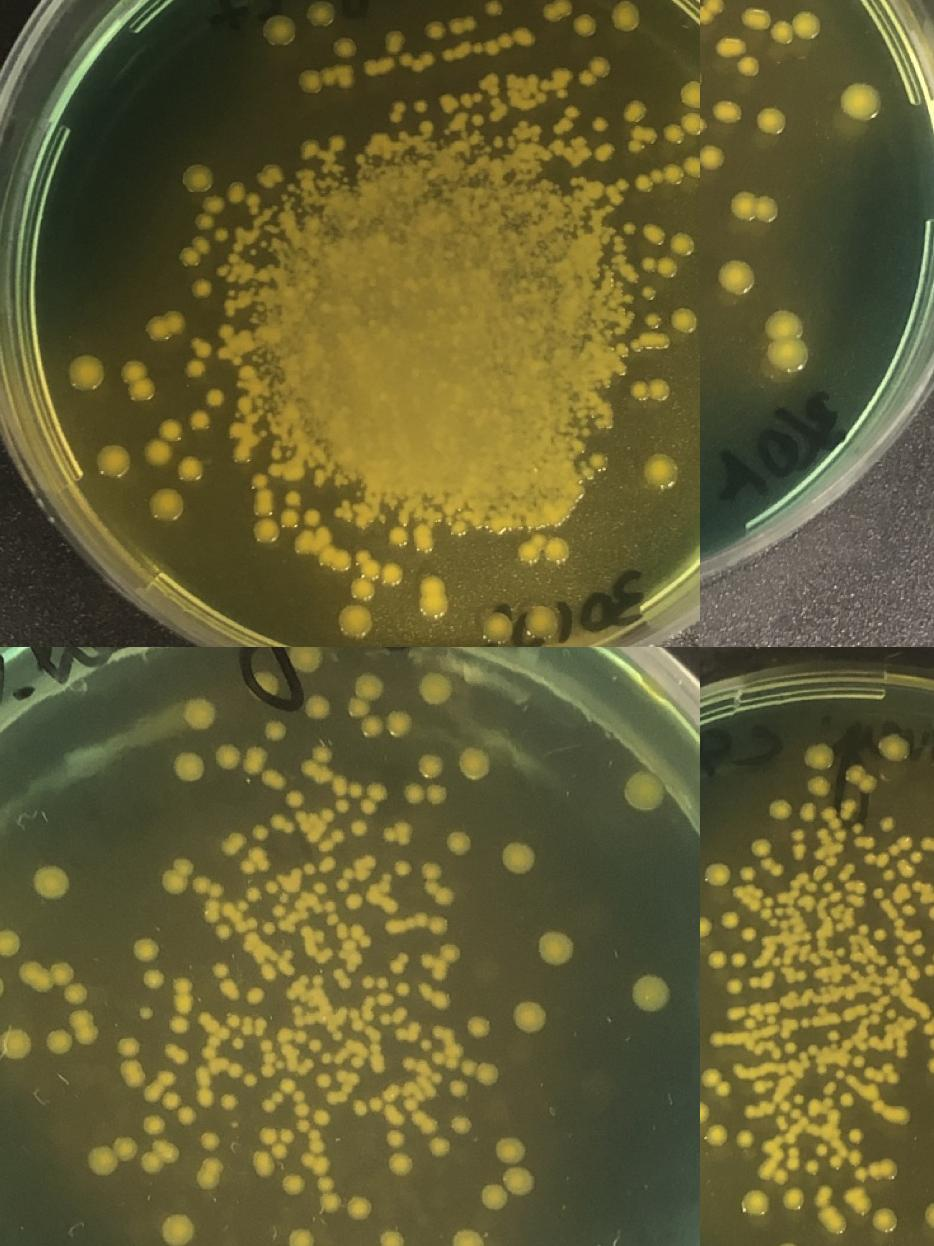vharveyi: (294, 527, 404, 603), (272, 880, 339, 932), (739, 7, 823, 44), (761, 310, 809, 373), (260, 1031, 315, 1078), (261, 1079, 310, 1131), (848, 1192, 901, 1236), (738, 837, 786, 883), (482, 1166, 533, 1208), (714, 36, 762, 80), (838, 82, 884, 124), (251, 474, 278, 542), (345, 671, 384, 718), (88, 1138, 133, 1178), (652, 148, 700, 183), (715, 257, 757, 297), (729, 190, 781, 222), (196, 1057, 243, 1089), (198, 1013, 230, 1060), (478, 73, 508, 123), (430, 1025, 463, 1070), (417, 574, 449, 620), (21, 962, 72, 990), (615, 332, 669, 358), (368, 1084, 402, 1125), (362, 710, 410, 739), (518, 535, 566, 563), (231, 429, 269, 464), (124, 360, 154, 404), (195, 876, 223, 923), (663, 110, 700, 145), (300, 1128, 328, 1172), (752, 105, 790, 137), (366, 872, 396, 912), (144, 311, 183, 340), (325, 1070, 358, 1104), (800, 741, 838, 770), (480, 613, 514, 645), (96, 444, 130, 476), (844, 765, 880, 795), (644, 455, 676, 488), (68, 356, 101, 388), (141, 1143, 177, 1172), (176, 453, 208, 485), (179, 236, 211, 268), (526, 606, 559, 637), (226, 182, 259, 213), (294, 810, 324, 844), (514, 1001, 546, 1032), (198, 193, 226, 228), (69, 1008, 96, 1044), (183, 698, 214, 729), (150, 488, 182, 518), (162, 1214, 192, 1246), (227, 1014, 267, 1038), (34, 868, 66, 898), (248, 670, 278, 702), (740, 1188, 772, 1218), (708, 946, 748, 970), (196, 1156, 222, 1192), (463, 1060, 499, 1086), (143, 1071, 173, 1102), (420, 672, 451, 702), (701, 860, 733, 889), (878, 733, 910, 762), (630, 378, 670, 401), (711, 100, 745, 127), (634, 978, 664, 1008), (628, 776, 658, 806), (458, 747, 488, 777), (342, 606, 370, 638), (162, 860, 190, 892), (360, 781, 387, 814), (440, 92, 484, 112), (540, 933, 570, 962), (502, 843, 532, 872), (173, 751, 203, 780), (0, 1026, 28, 1057), (581, 56, 611, 84), (499, 24, 534, 48), (494, 1136, 524, 1164), (385, 912, 427, 932), (805, 1143, 830, 1176), (506, 74, 540, 98), (700, 143, 728, 172), (184, 164, 212, 192), (266, 18, 294, 46), (444, 43, 484, 62), (319, 1178, 340, 1214), (779, 1093, 806, 1120), (243, 745, 268, 774), (700, 0, 725, 28), (412, 524, 435, 554), (290, 647, 320, 670), (552, 66, 572, 100), (630, 126, 656, 152), (582, 454, 606, 482), (848, 1150, 869, 1182), (766, 798, 794, 822), (759, 896, 784, 922), (369, 1030, 384, 1072), (146, 440, 170, 466), (670, 307, 694, 333), (670, 232, 694, 258), (606, 179, 630, 205), (572, 12, 596, 38), (614, 3, 638, 29), (426, 880, 452, 904), (704, 1124, 730, 1148), (346, 1196, 370, 1220), (46, 1029, 70, 1053), (468, 1015, 492, 1039), (134, 937, 158, 961), (448, 831, 472, 855), (320, 828, 344, 852), (215, 745, 239, 769), (807, 774, 831, 798), (257, 165, 282, 188), (308, 696, 331, 721), (780, 1188, 806, 1210), (397, 1020, 420, 1044), (418, 754, 441, 778), (381, 1004, 406, 1026), (364, 58, 394, 76), (452, 1228, 482, 1246), (250, 846, 270, 873), (204, 386, 226, 410), (192, 276, 214, 300), (354, 856, 376, 880), (383, 822, 409, 842), (298, 71, 320, 94), (448, 16, 476, 34), (300, 926, 325, 946), (189, 410, 211, 432), (184, 358, 206, 380), (624, 100, 646, 122), (333, 37, 355, 59), (384, 28, 406, 50), (424, 20, 446, 42), (923, 1200, 934, 1244), (878, 1158, 900, 1180), (718, 908, 740, 930), (164, 1044, 188, 1064), (350, 924, 370, 948), (159, 419, 181, 440), (310, 2, 331, 24), (413, 1112, 436, 1132), (683, 80, 700, 107), (700, 1100, 711, 1141), (785, 1146, 801, 1174), (337, 866, 354, 892), (388, 524, 408, 546), (644, 222, 664, 244), (700, 1066, 720, 1088), (320, 1050, 344, 1068), (0, 930, 18, 954), (404, 1092, 425, 1112), (404, 784, 425, 804), (412, 53, 434, 72), (289, 1229, 313, 1246), (700, 912, 715, 939), (449, 518, 469, 538), (333, 500, 353, 520), (541, 6, 561, 26), (390, 1154, 410, 1174), (430, 1137, 450, 1157), (385, 1128, 405, 1148), (143, 1116, 163, 1136), (452, 1115, 472, 1135), (448, 1078, 468, 1098), (121, 1058, 141, 1078), (118, 1037, 138, 1057), (348, 1007, 364, 1032), (143, 968, 163, 988), (426, 784, 446, 804), (313, 744, 333, 764), (266, 722, 286, 742), (735, 1129, 755, 1149), (878, 814, 898, 834), (482, 0, 503, 19), (381, 1230, 405, 1246), (242, 930, 258, 954), (922, 949, 934, 981), (282, 1175, 301, 1195), (252, 1154, 273, 1172), (391, 952, 409, 973), (272, 816, 293, 834), (362, 994, 375, 1022), (303, 510, 323, 528), (280, 510, 300, 528), (66, 984, 84, 1004), (263, 770, 283, 788), (838, 1090, 856, 1110), (738, 924, 758, 942), (237, 916, 258, 933), (390, 101, 406, 123), (406, 1076, 428, 1092), (334, 968, 350, 990), (658, 258, 677, 276), (596, 144, 615, 162), (228, 242, 245, 262), (404, 1058, 428, 1072), (288, 980, 304, 1001), (254, 389, 272, 407), (279, 183, 296, 202), (726, 976, 742, 996), (339, 64, 351, 90), (286, 465, 304, 482), (613, 234, 628, 253), (636, 174, 651, 192), (554, 119, 572, 134), (919, 835, 934, 853), (284, 492, 302, 506), (442, 122, 460, 136), (290, 866, 302, 887), (270, 439, 282, 459), (849, 1128, 864, 1144), (874, 927, 888, 944), (700, 107, 709, 133), (604, 326, 623, 338), (641, 284, 655, 300), (783, 1040, 799, 1054), (910, 943, 926, 957), (883, 868, 897, 884), (318, 150, 336, 162), (229, 422, 243, 437), (247, 989, 261, 1004), (902, 903, 916, 918), (754, 1080, 767, 1096), (238, 396, 252, 410), (241, 366, 255, 380), (196, 340, 210, 354), (645, 314, 659, 328), (214, 228, 228, 242), (303, 141, 317, 155), (272, 1144, 286, 1158), (202, 1134, 216, 1148), (280, 1128, 294, 1142), (315, 1112, 329, 1126), (179, 1108, 193, 1122), (164, 1094, 178, 1108), (198, 1093, 212, 1107), (316, 1074, 330, 1088), (244, 1072, 258, 1086), (420, 1038, 434, 1052), (230, 1036, 244, 1050), (173, 1018, 187, 1032), (177, 996, 191, 1010), (434, 994, 448, 1008), (220, 980, 234, 994), (176, 979, 190, 993), (212, 962, 226, 976), (443, 946, 457, 960), (430, 919, 444, 933), (346, 894, 360, 908), (240, 860, 254, 874), (320, 858, 334, 872), (229, 833, 243, 847), (288, 794, 302, 808), (349, 784, 363, 798), (826, 1028, 840, 1042), (884, 1008, 898, 1022), (863, 852, 877, 866), (909, 850, 923, 864), (888, 844, 902, 858), (833, 828, 847, 842), (871, 886, 884, 901), (852, 821, 865, 836), (216, 927, 230, 940), (220, 345, 232, 360), (140, 1007, 152, 1022), (281, 948, 293, 963), (334, 780, 346, 795), (268, 464, 282, 476), (220, 326, 232, 340), (420, 122, 434, 134), (323, 70, 335, 84), (262, 1129, 274, 1143), (354, 1100, 366, 1114), (221, 1096, 235, 1108), (432, 1051, 444, 1065), (310, 1040, 322, 1054), (330, 1028, 342, 1042), (294, 1015, 306, 1029), (379, 992, 391, 1006), (397, 983, 409, 997), (422, 954, 434, 968), (344, 940, 356, 954), (263, 922, 275, 936), (222, 902, 234, 916), (237, 900, 249, 914), (247, 890, 259, 904), (266, 880, 278, 894), (426, 864, 438, 878), (396, 862, 408, 876), (305, 862, 317, 876), (254, 826, 266, 840), (322, 808, 334, 822), (336, 798, 348, 812), (304, 762, 316, 776), (834, 1068, 846, 1082), (927, 1056, 934, 1080), (858, 922, 870, 936), (822, 880, 834, 894), (844, 862, 856, 876), (824, 856, 838, 868), (928, 1026, 934, 1053), (224, 300, 237, 312), (361, 976, 373, 989), (643, 258, 655, 270), (624, 222, 636, 234), (330, 138, 342, 150), (594, 119, 606, 131), (471, 115, 483, 127), (565, 106, 577, 118), (415, 101, 427, 113), (540, 79, 552, 91), (400, 55, 412, 67), (486, 43, 498, 55), (427, 1086, 439, 1098), (430, 1072, 442, 1084), (352, 1056, 364, 1068), (295, 1032, 307, 1044), (420, 985, 432, 997), (376, 978, 388, 990), (434, 968, 446, 980), (262, 968, 274, 980), (352, 822, 364, 834), (316, 769, 328, 781), (853, 1056, 865, 1068), (835, 947, 847, 959), (700, 66, 706, 89), (336, 928, 348, 939)
